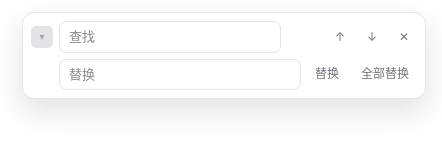
Scenario: SearchPanel › replaces the displayed current match and advances to the next result
The image size is (442, 160).
Type "one" into the field with placeholder "查找".
click(170, 37); type("one")  # box [59,21,281,52]
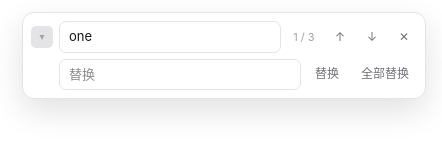
Click the button titled "下一个".
click(372, 37)  # box [359,25,385,49]
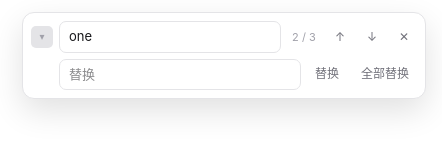
Expected: the text "2 / 3" is shown, [292,30,316,44]
Type "two" into the field with placeholder "替换".
click(180, 74); type("two")  # box [59,58,301,90]
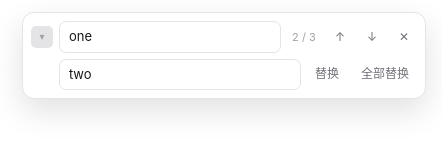
Click the button "替换".
click(327, 74)  # box [307,62,347,86]
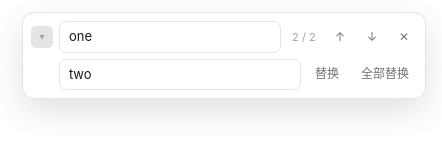
Expected: the text "2 / 2" is shown, [292,30,316,44]
